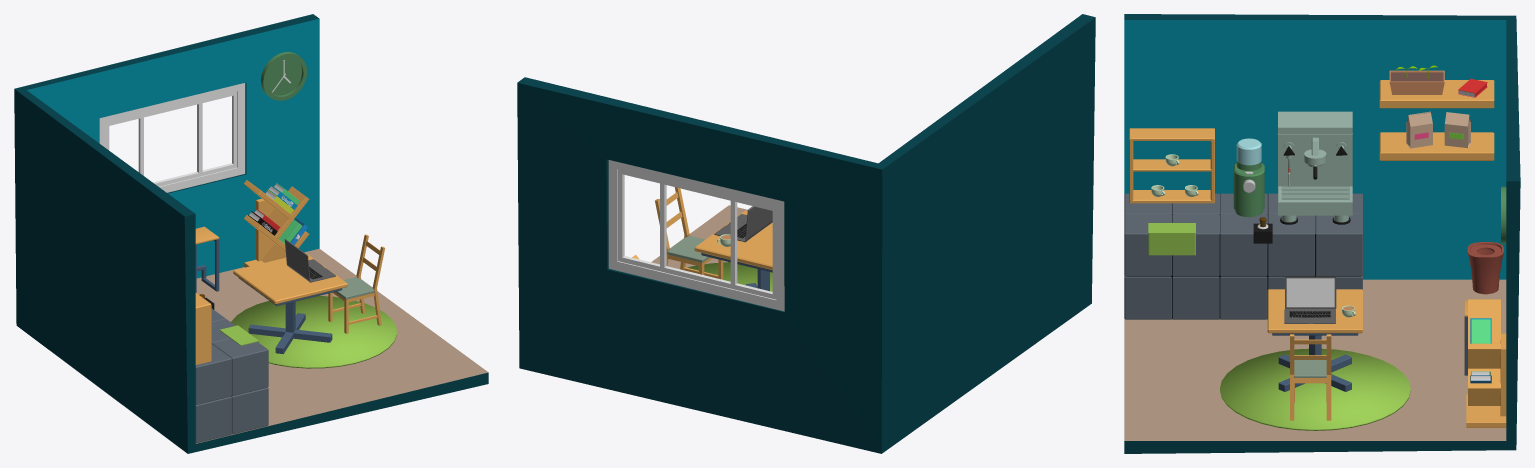
File: coffeeshop.glb
The picture shows the model from 3 angles, left to right: view 1: azimuth 30°, elevation 25°; view 2: azimuth 150°, elevation 25°; view 3: azimuth 270°, elevation 25°; orthographic projection. The views are drawn at different scales.
Visible parts, largest first — view 1: Platform, Cylinder, StandBrick, Window, TableTop, Bookshelf, Clock, Table, Chair, Cupboard, Macbook, Stool (+1 smaller); view 2: Platform, Window, TableTop, Chair, Macbook, Cylinder, ChairCushion; view 3: Platform, StandBrick, Cylinder, Espresso, Shelf, Bookshelf, Cupboard, TableTop, Blender, Trash, Towel, Chair (+11 smaller).
Part boxes in pixels (bbox=[...]): Platform: bbox=[14, 14, 488, 453]; Cylinder: bbox=[231, 295, 396, 368]; StandBrick: bbox=[195, 308, 268, 443]; Window: bbox=[99, 83, 245, 192]; TableTop: bbox=[233, 253, 347, 304]; Bookshelf: bbox=[244, 180, 309, 267]; Clock: bbox=[261, 52, 307, 100]; Table: bbox=[239, 278, 342, 354]; Chair: bbox=[328, 234, 384, 333]; Cupboard: bbox=[195, 293, 211, 364]; Macbook: bbox=[284, 239, 335, 282]; Stool: bbox=[195, 239, 219, 292]; Platform: bbox=[517, 14, 1095, 453]; Window: bbox=[608, 160, 784, 311]; TableTop: bbox=[694, 210, 772, 270]; Chair: bbox=[655, 187, 723, 279]; Macbook: bbox=[714, 206, 772, 242]; Cylinder: bbox=[687, 262, 772, 291]; ChairCushion: bbox=[667, 235, 709, 262]; Platform: bbox=[1124, 14, 1520, 453]; StandBrick: bbox=[1124, 193, 1362, 319]; Cylinder: bbox=[1220, 348, 1410, 430]; Espresso: bbox=[1278, 111, 1352, 224]; Shelf: bbox=[1379, 80, 1494, 160]; Bookshelf: bbox=[1466, 299, 1506, 427]; Cupboard: bbox=[1129, 128, 1214, 203]; TableTop: bbox=[1267, 289, 1362, 333]; Blender: bbox=[1233, 161, 1264, 217]; Trash: bbox=[1467, 242, 1503, 294]; Towel: bbox=[1148, 223, 1195, 255]; Chair: bbox=[1290, 334, 1331, 420].
Size of the model in its own units: 8.3 by 6.3 by 8.3.
36 materials, 3 textured.
